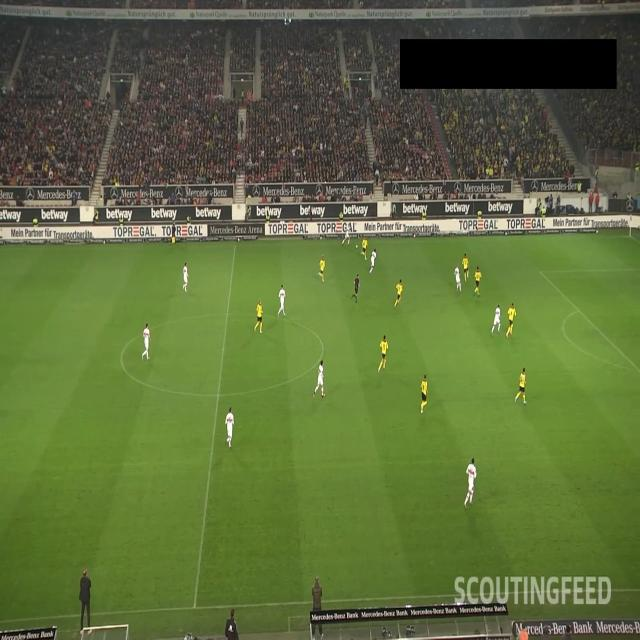ball: (355, 243, 358, 250)
